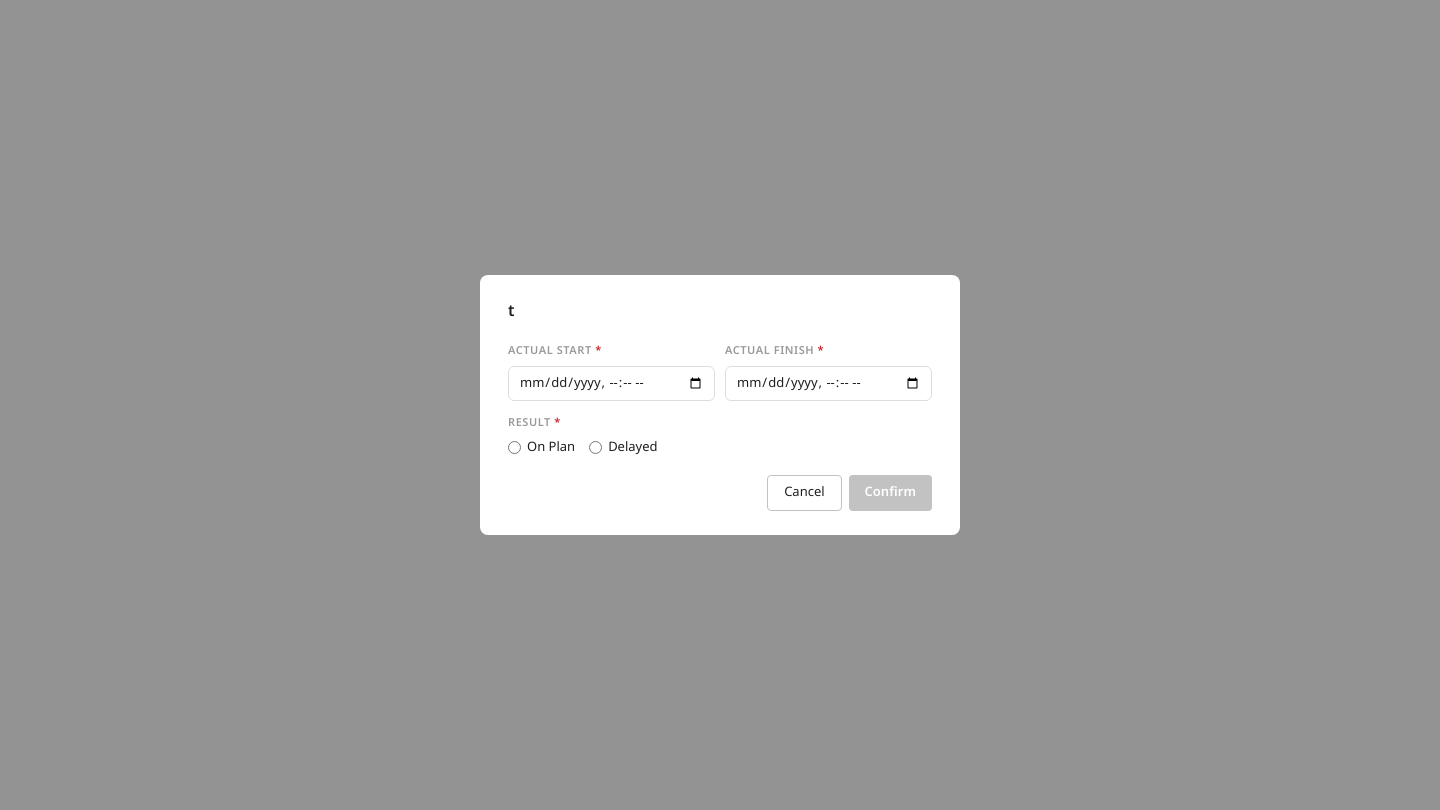
Test: ActualDatesModal › shows Delay Reason only after choosing Delayed, and requires it
Type "2025-01-05T08:00" into the field labelled "Actual Start *" at (612, 384), box x1=508 y1=366 x2=715 y2=401
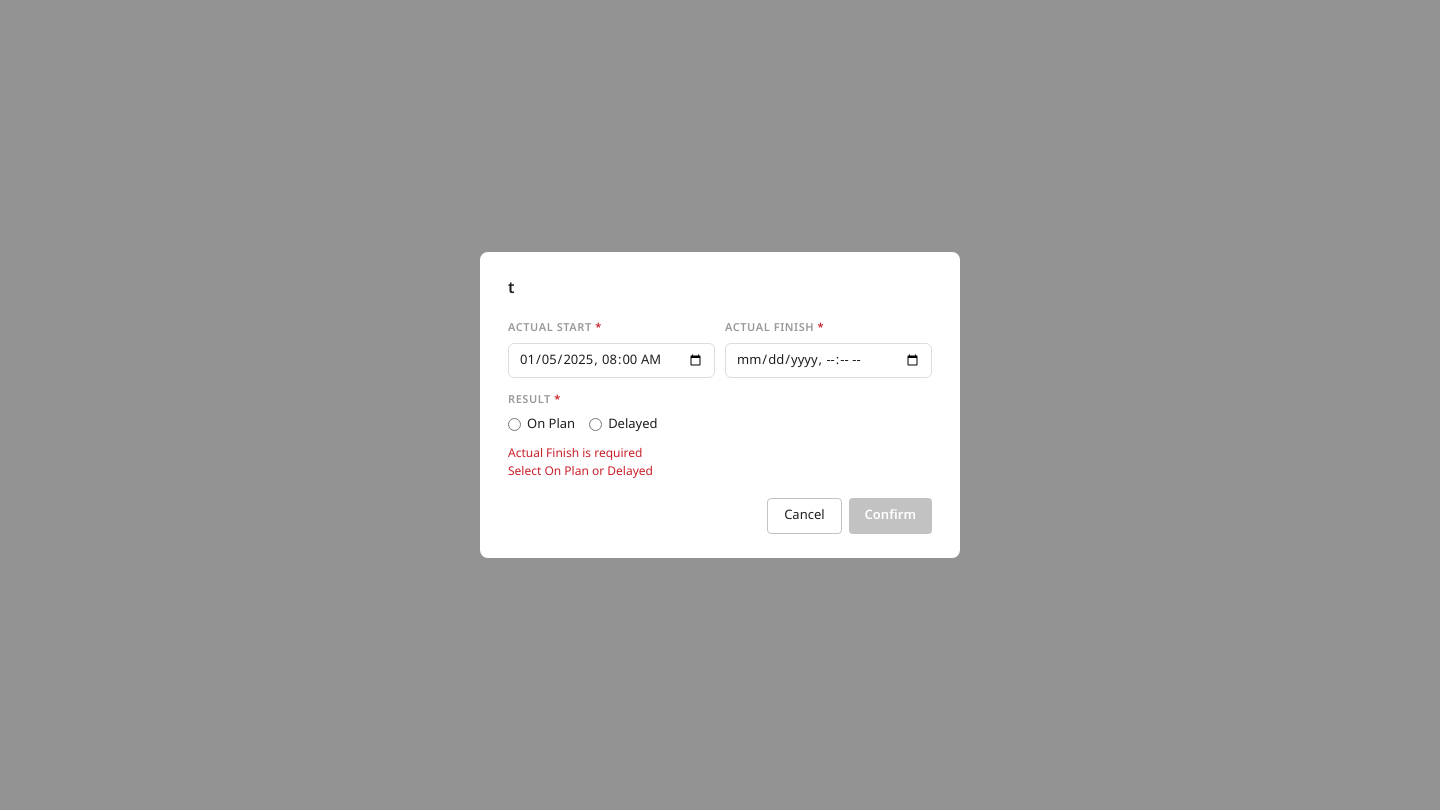
Type "2025-01-06T17:30" into the field labelled "Actual Finish *" at (828, 361), box x1=725 y1=343 x2=932 y2=378
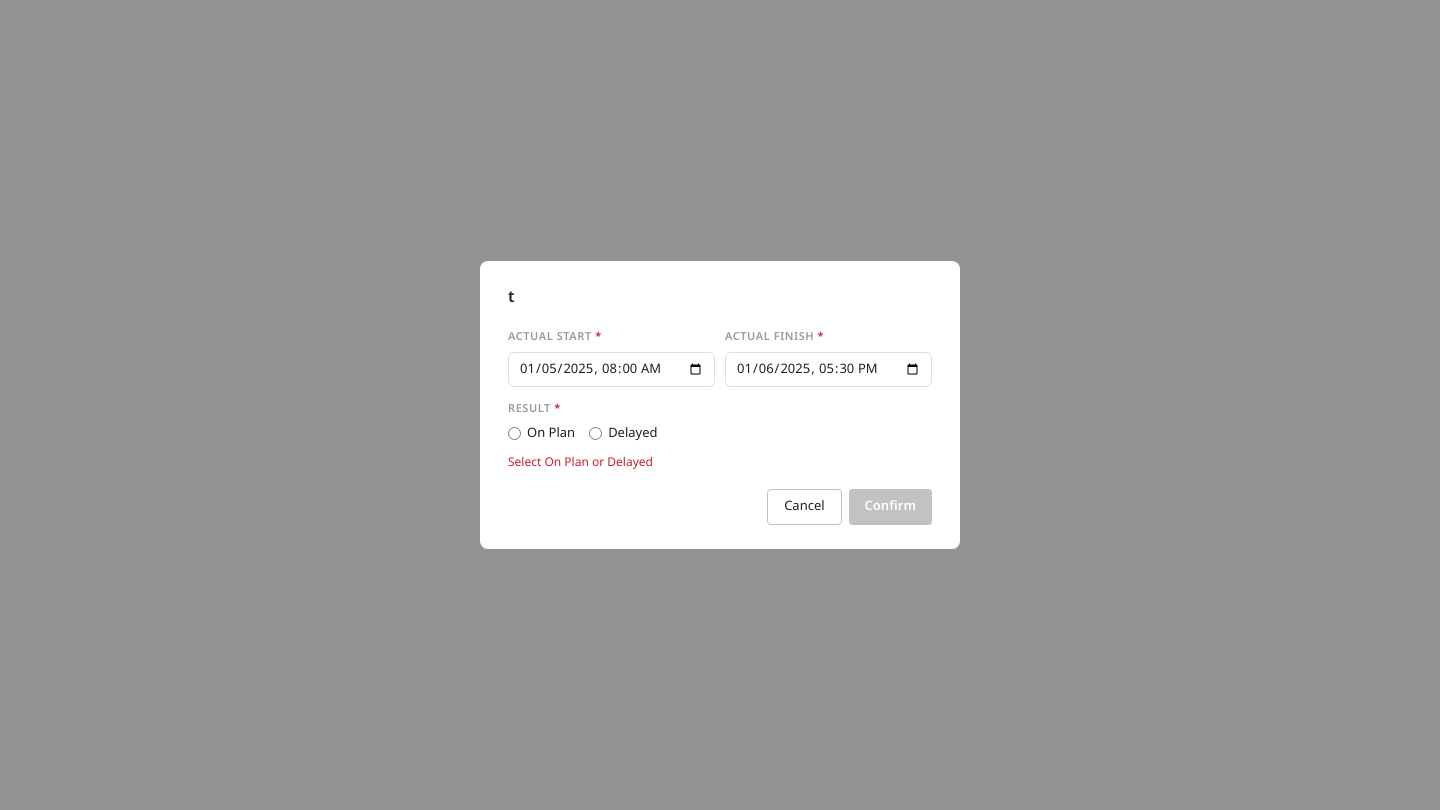
expect the field labelled "Delay Reason" is not shown: met
Click the radio button labelled "Delayed" at (596, 434), box x1=589 y1=427 x2=602 y2=440
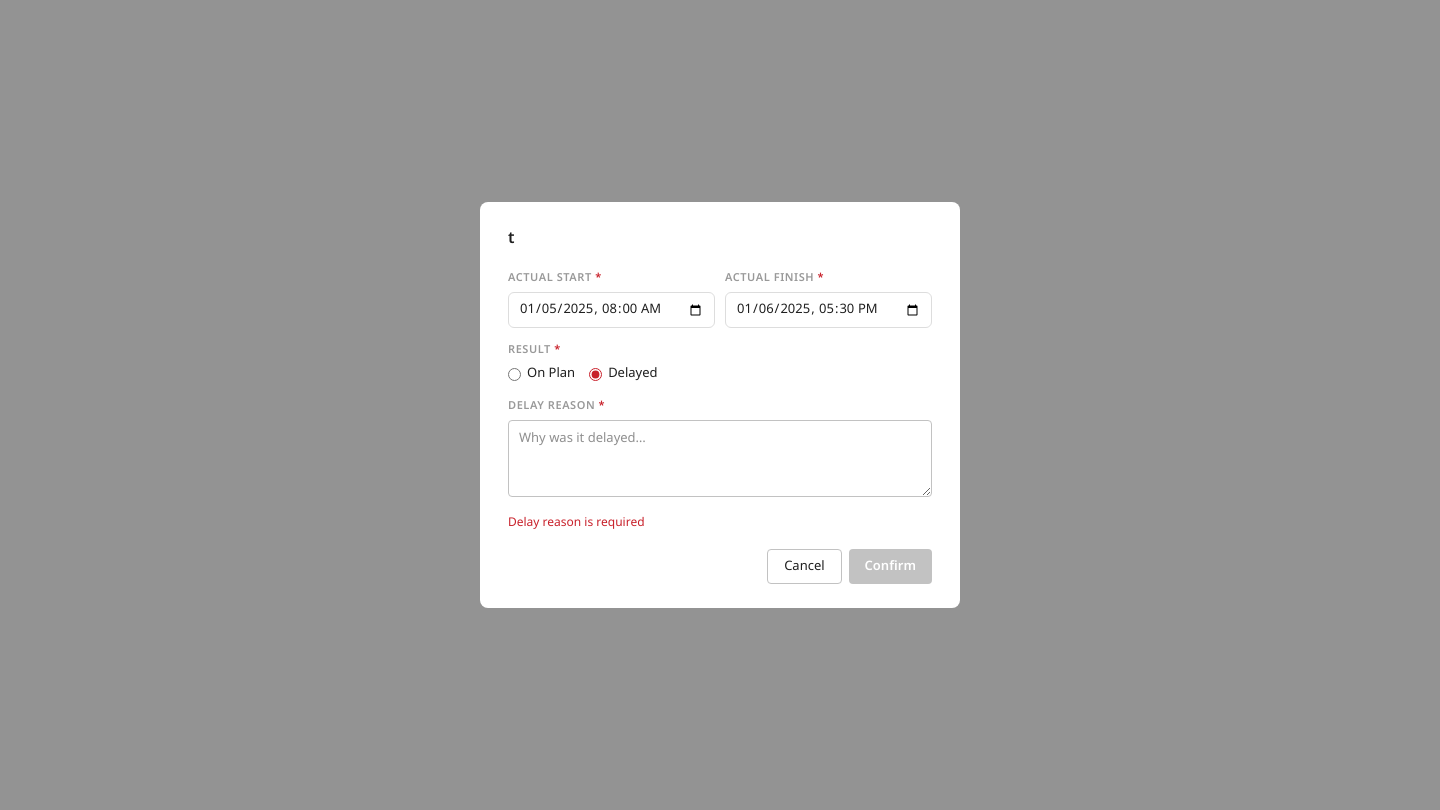
expect the button "Confirm" is disabled: met, box x1=849 y1=549 x2=932 y2=584
expect the text box labelled "Delay Reason *" is shown: met, box x1=508 y1=420 x2=932 y2=497
Click the radio button labelled "On Plan" at (514, 374), box x1=508 y1=368 x2=521 y2=380
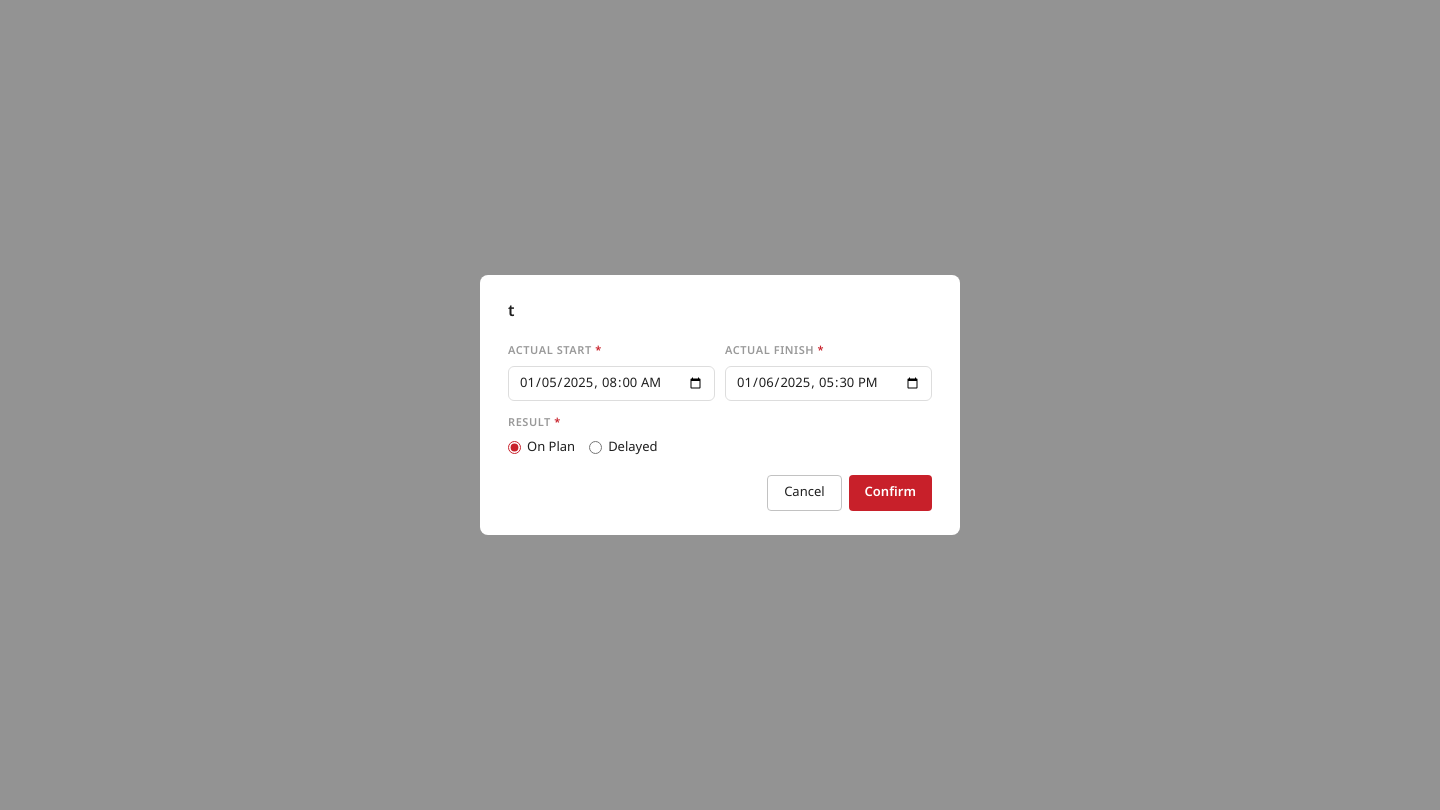
expect the label labelled "Delay Reason" is gone: met
